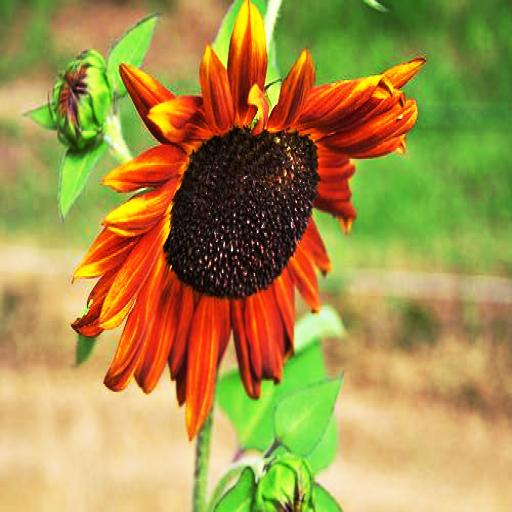sunflower: (78, 6, 423, 434)
